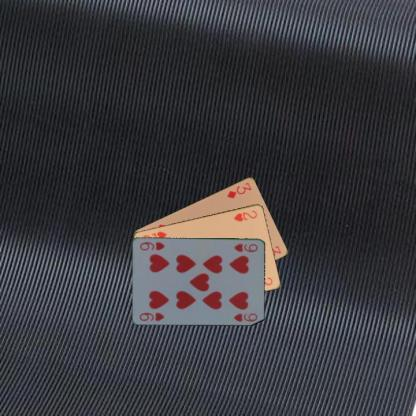2h: (231, 208, 258, 223)
3d: (224, 180, 253, 200)
9h: (137, 310, 166, 322), (231, 241, 259, 253)
